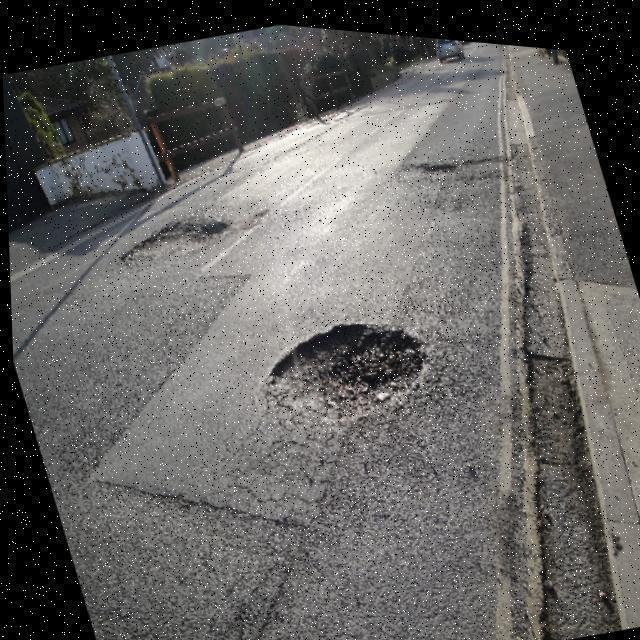Pothole: (268, 324, 425, 418), (121, 220, 230, 263), (401, 161, 460, 174)
